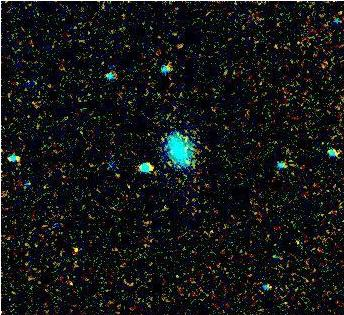star: (58, 268, 88, 298)
